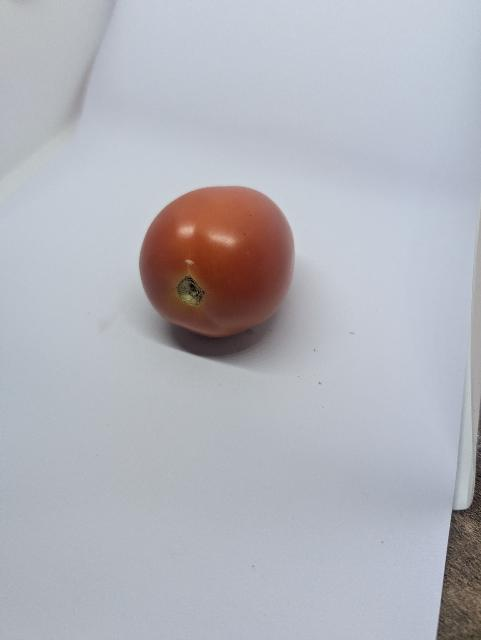red: (137, 181, 302, 359)
